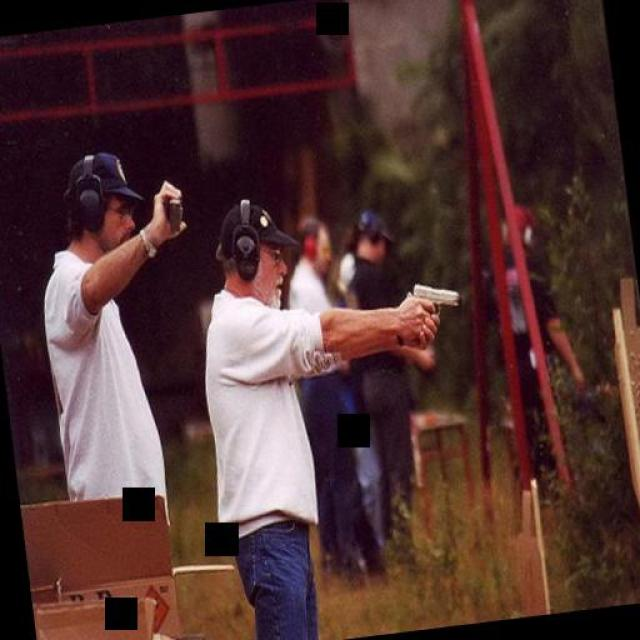gun: (400, 275, 465, 349)
